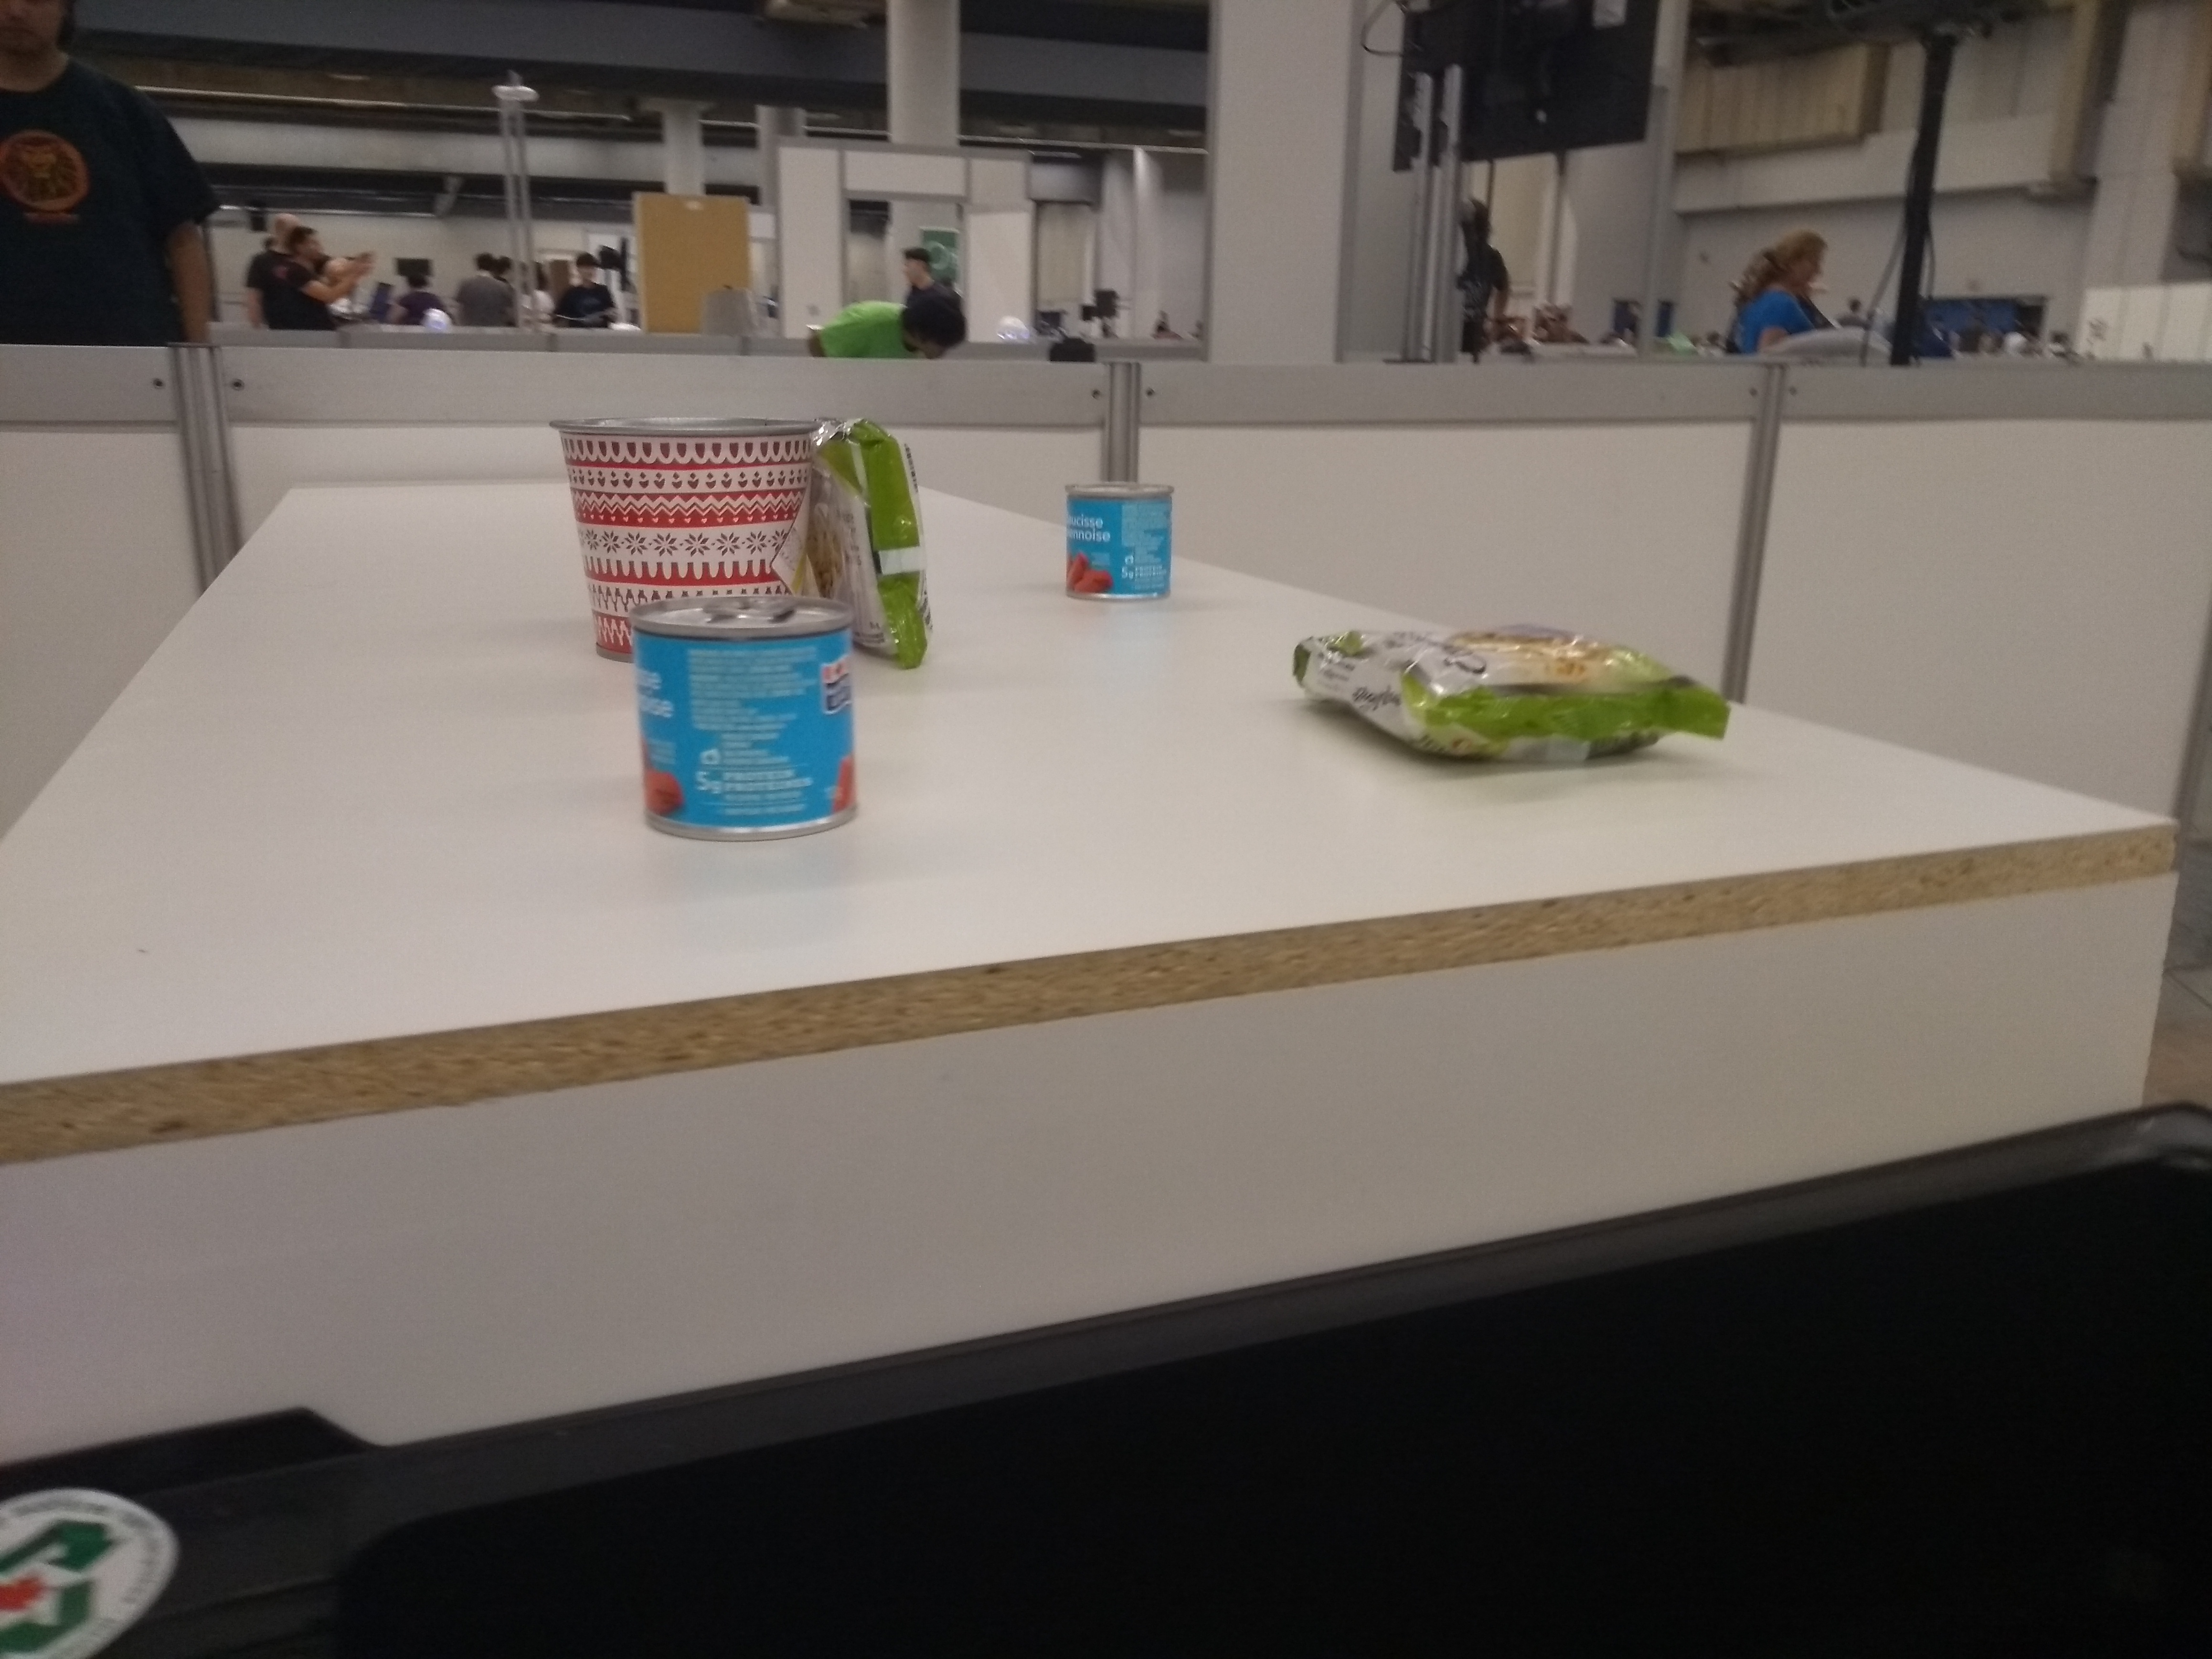noodles: (1266, 612, 1740, 782), (796, 406, 942, 664)
sausages: (620, 592, 878, 850), (1052, 471, 1181, 612)
